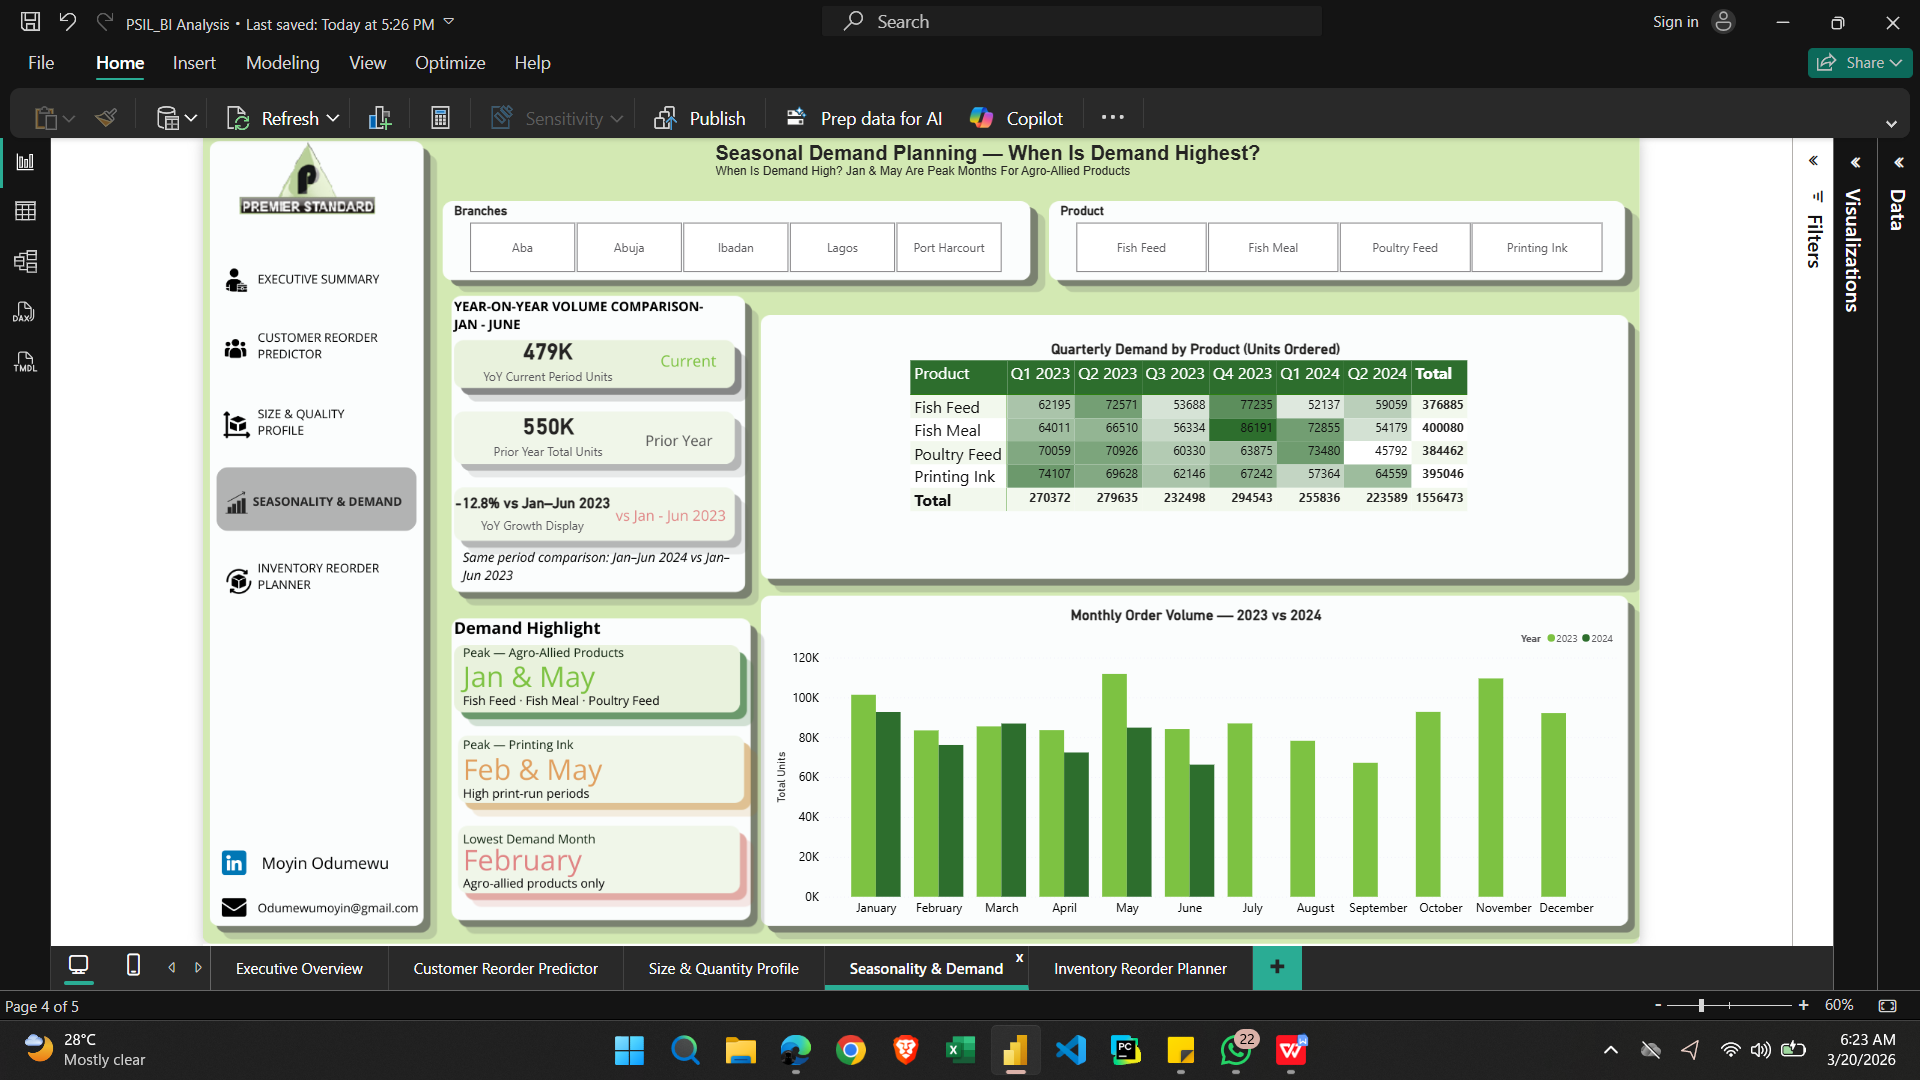

The page's visual inventory and layout, read from the dashboard file:
{"tool":"powerbi","page":{"name":"Seasonality & Demand","canvas":[1920,1080],"ordinal":3},"visuals":[{"type":"textbox","box":[679.1,0,824.5,73.6],"z":0},{"type":"slicer","title":"Product","fields":{"Values":["FactOrders.Product"]},"box":[1141.1,86.5,752.8,99.4],"z":1000},{"type":"slicer","title":"Branches","fields":{"Values":["FactOrders.Branch"]},"box":[331.3,86.5,760.1,99.4],"z":2000},{"type":"clusteredColumnChart","title":"Monthly Order Volume — 2023 vs 2024","fields":{"Category":["DimDate.MonthName"],"Series":["DimDate.Year"],"Y":["Table.Total Units"]},"box":[760.1,625.8,1133.7,423.3],"z":3000},{"type":"pivotTable","title":"Quarterly Demand by Product (Units Ordered)","fields":{"Rows":["FactOrders.Product"],"Columns":["DimDate.QuarterYear"],"Values":["Table.Total Units"]},"box":[940.5,270.6,771.2,287.1],"z":4000},{"type":"card","fields":{"Values":["Table.YoY Growth Display"]},"box":[331.3,458.3,219,81],"z":5000},{"type":"card","fields":{"Values":["Table.YoY Current Period Units"]},"box":[344.2,255.8,233.7,77.3],"z":6000},{"type":"card","fields":{"Values":["Table.Prior Year Total Units"]},"box":[358.9,355.2,204.3,77.3],"z":7000}]}

Visuals, with their boxes on the page's 1920x1080 design canvas (x1, y1, x2, y2). These are canvas units, not pixel positions in the 1920x1080 screenshot, which may show the page scaled, cropped or inside an application window:
textbox: select_region(679, 0, 1504, 74)
"Product" slicer: select_region(1141, 86, 1894, 186)
"Branches" slicer: select_region(331, 86, 1091, 186)
"Monthly Order Volume — 2023 vs 2024" clusteredColumnChart: select_region(760, 626, 1894, 1049)
"Quarterly Demand by Product (Units Ordered)" pivotTable: select_region(940, 271, 1712, 558)
card - Table.YoY Growth Display: select_region(331, 458, 550, 539)
card - Table.YoY Current Period Units: select_region(344, 256, 578, 333)
card - Table.Prior Year Total Units: select_region(359, 355, 563, 432)
